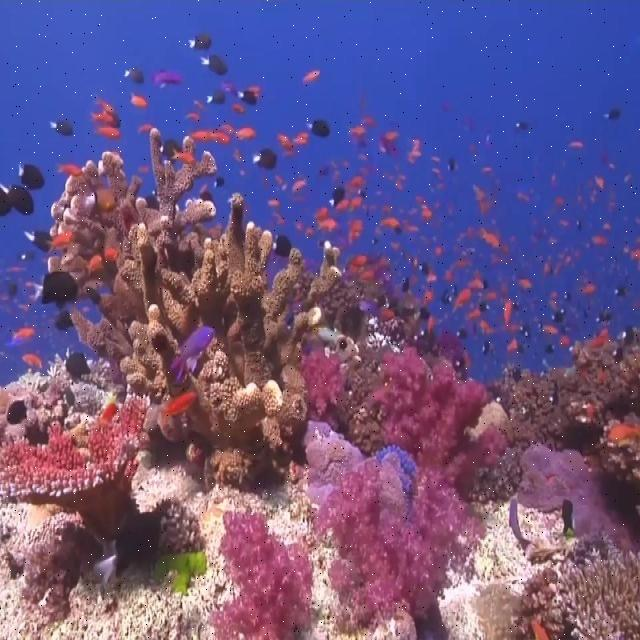reefs: (49, 129, 341, 491), (303, 347, 508, 636), (0, 394, 152, 538), (474, 533, 639, 639), (213, 511, 316, 639), (518, 443, 634, 548)
